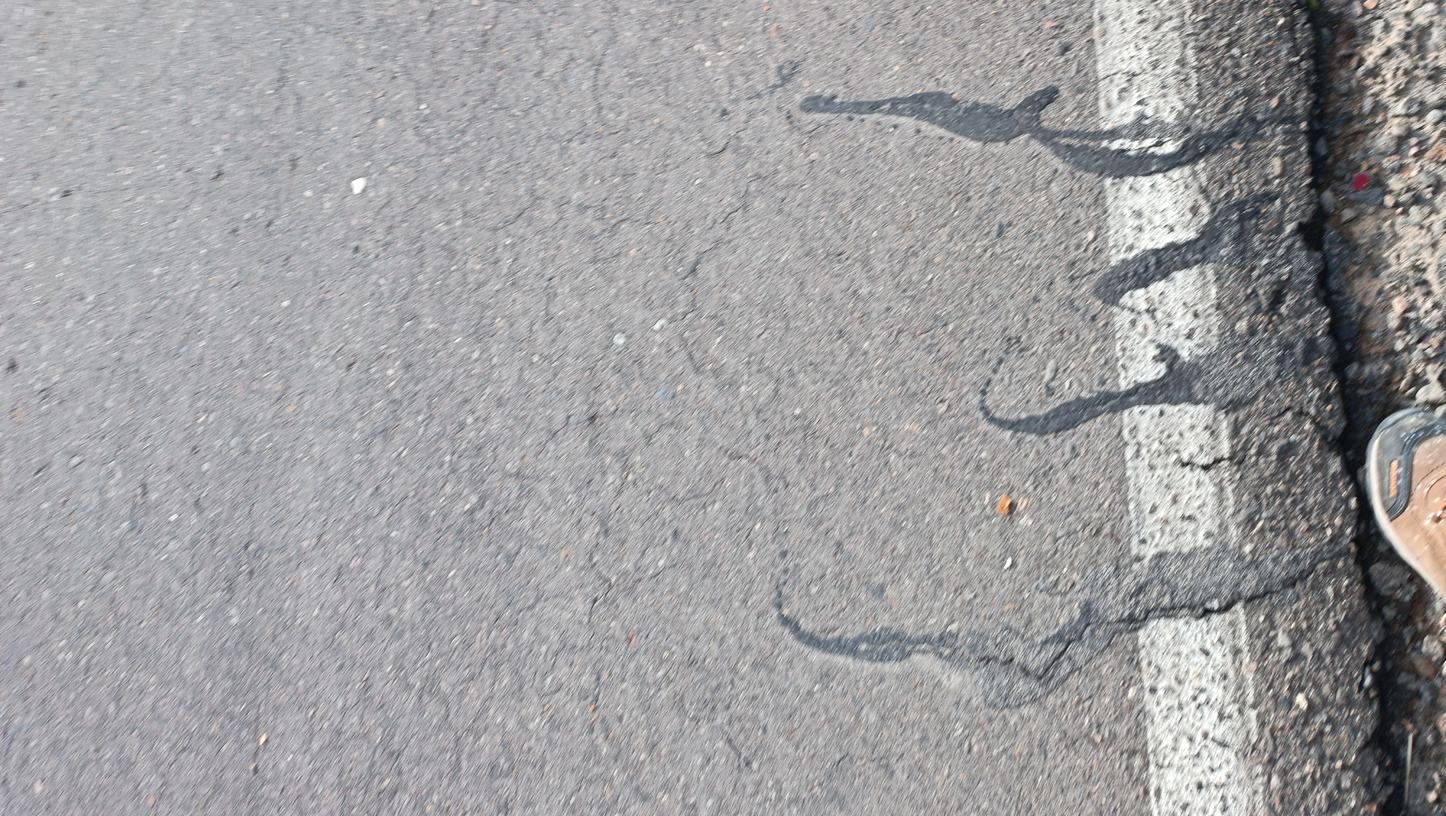GRIETA: (950, 555, 1324, 682)
PIEL DE COCODRILO: (323, 9, 833, 745)
